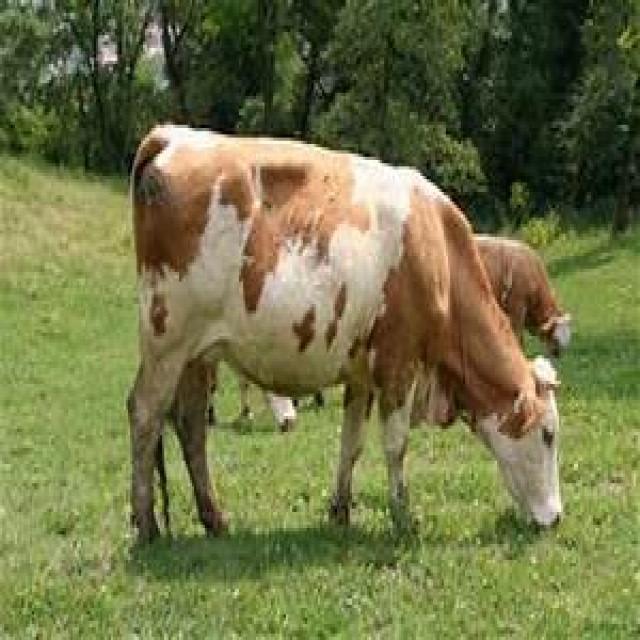cow: (126, 125, 563, 550)
